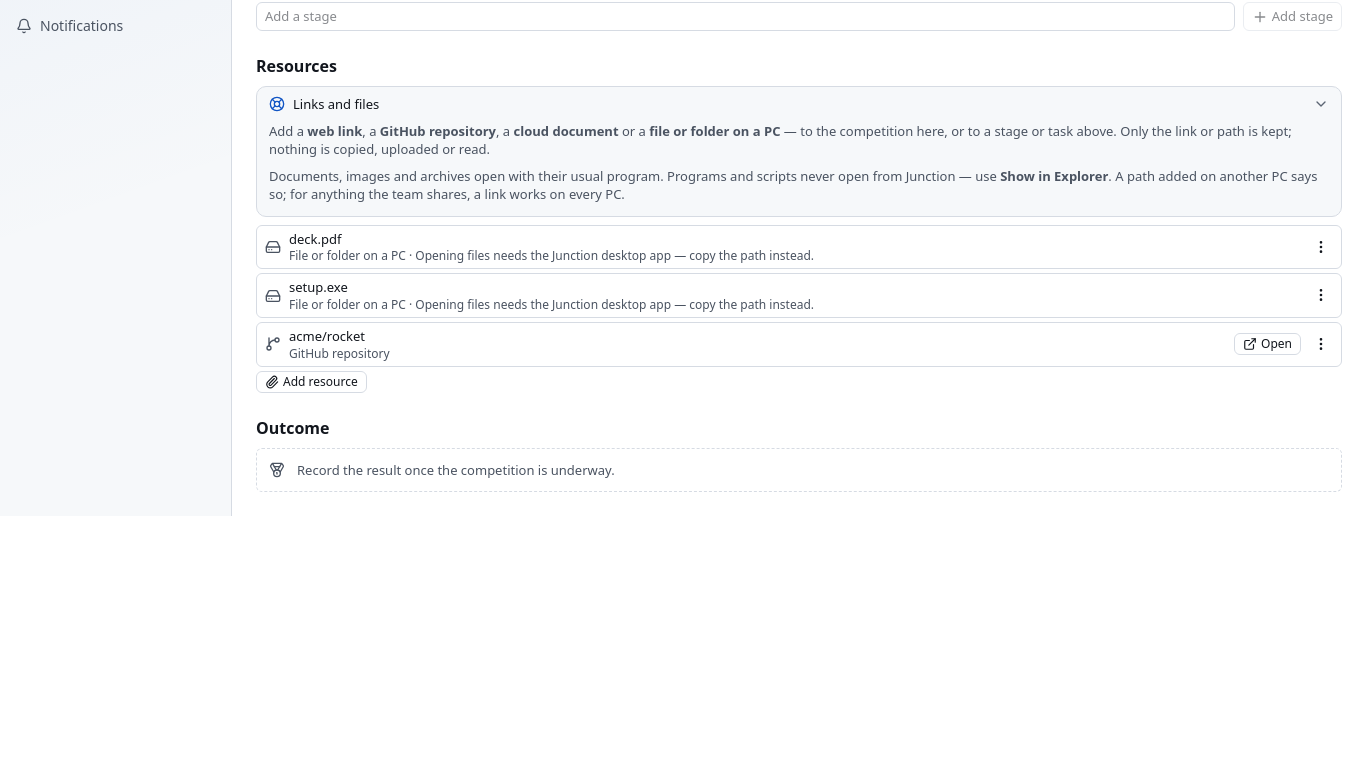
Test case: adding and removing › adds a link at once with Undo; a refused one is explained in the dialog
(page scrolled)
Check: the list named "Resources of this competition" is shown, box [256,225,1342,366]
Click the button with aria-label "Add a resource to this competition" at {"x": 311, "y": 382}, box [256,370,367,392]
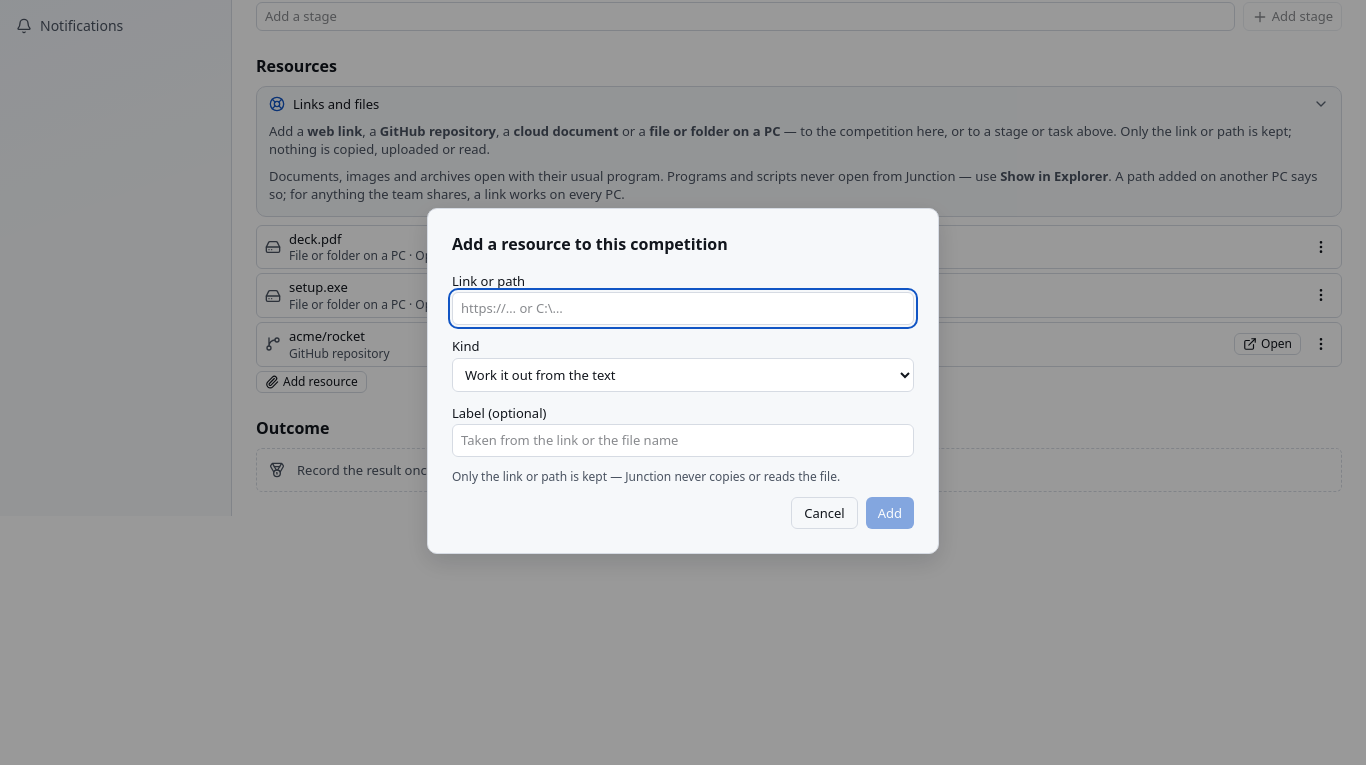
Type "javascript:alert(1)" into the field labelled "Link or path" at {"x": 683, "y": 309}, box [452,292,914,325]
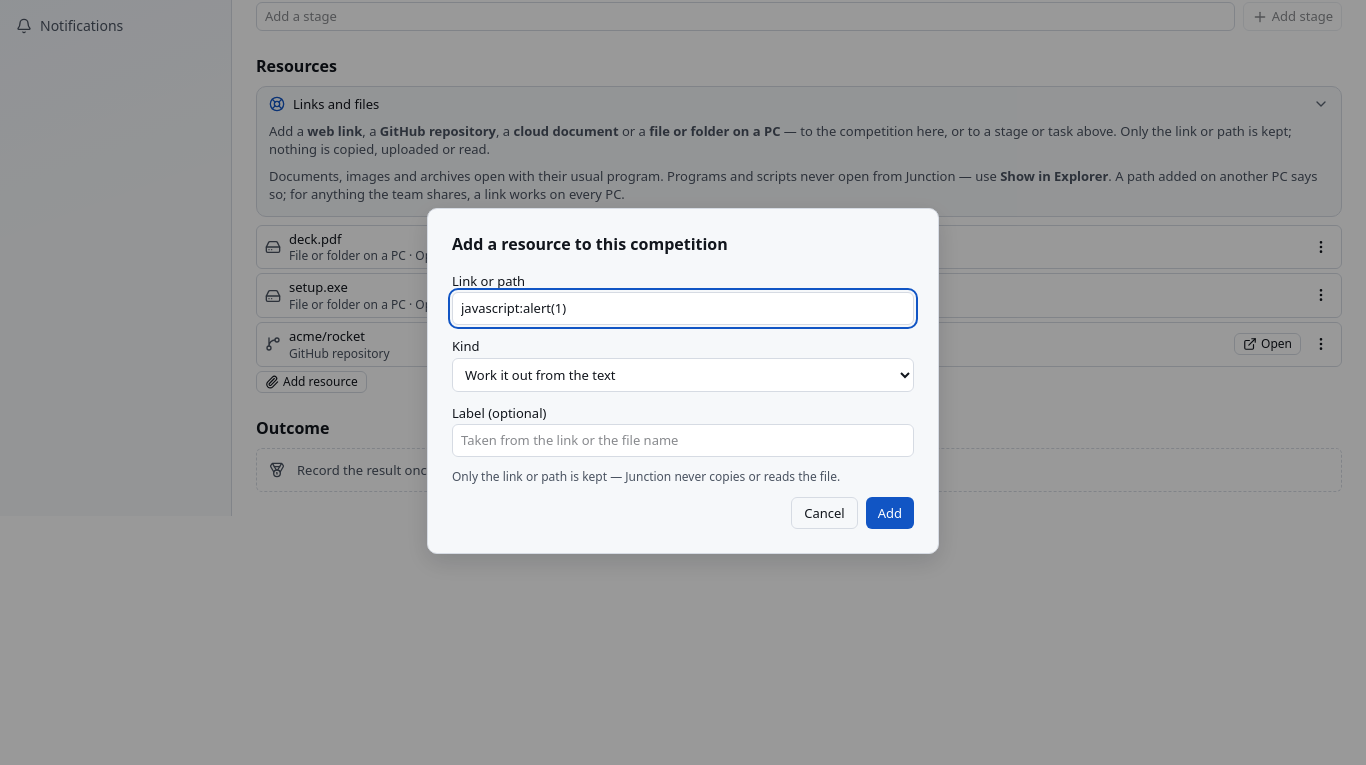
Click the button "Add" at {"x": 890, "y": 513}, box [866,497,914,529]
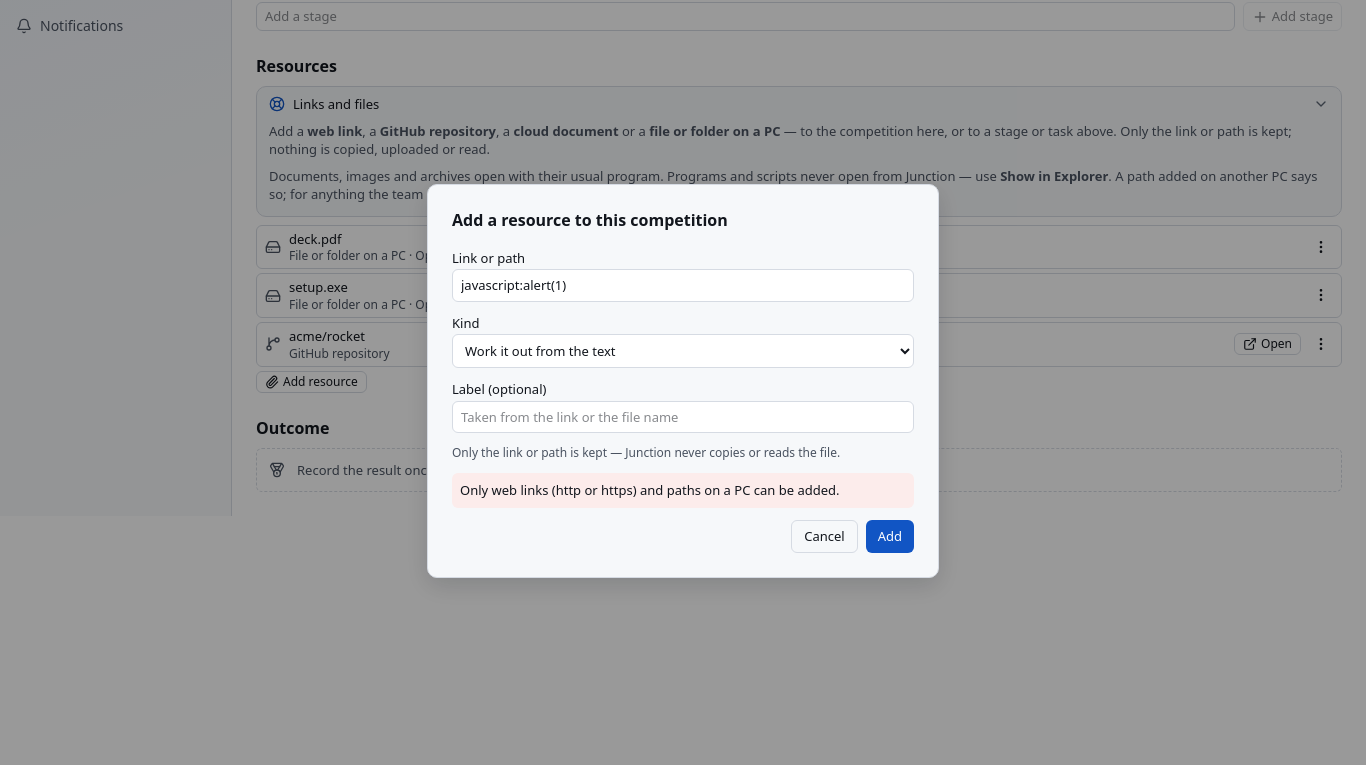
Check: the text "Only web links (http or https) and paths on a PC can be added." is shown, box [452,473,914,508]
Replace the text in the field labelled "Link or path" with "https://devfolio.co/alpha" at {"x": 683, "y": 286}, box [452,269,914,302]
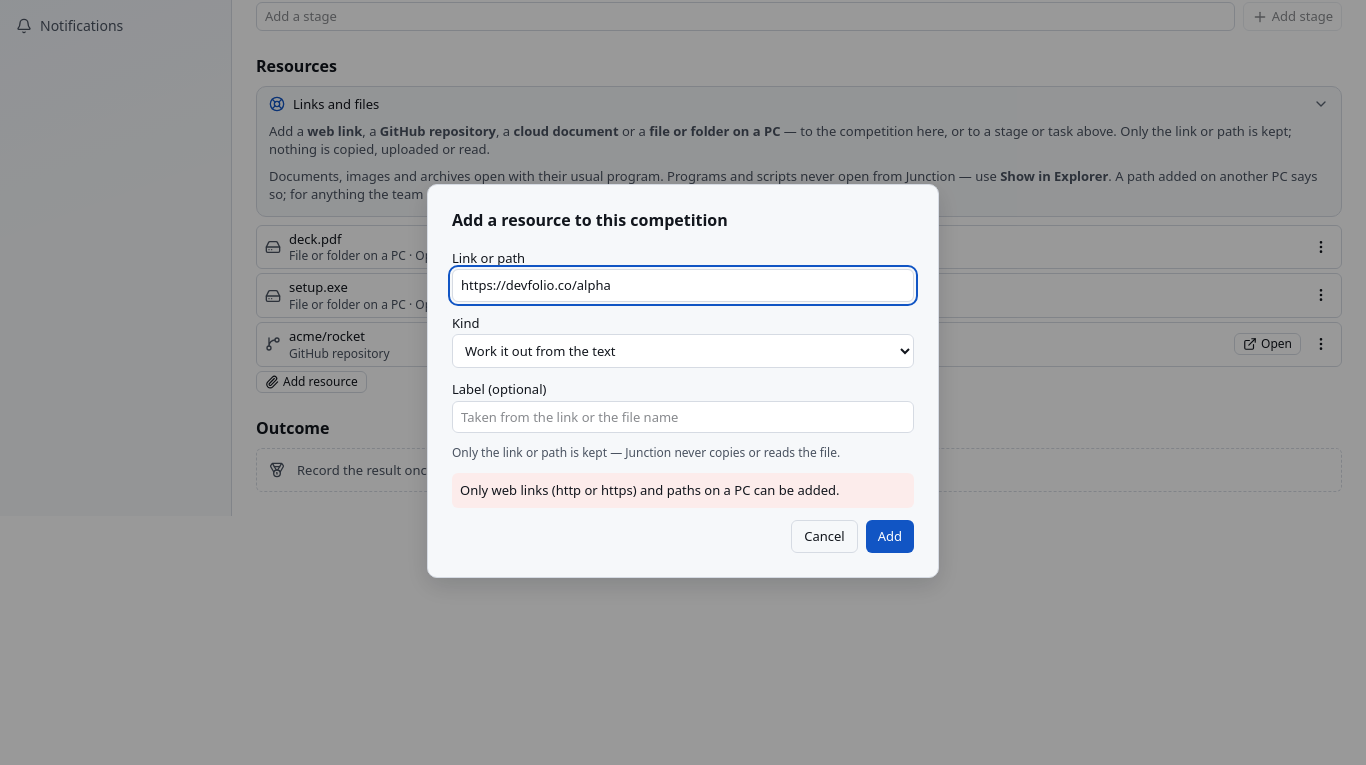
Click the button "Add" at {"x": 890, "y": 536}, box [866,520,914,553]
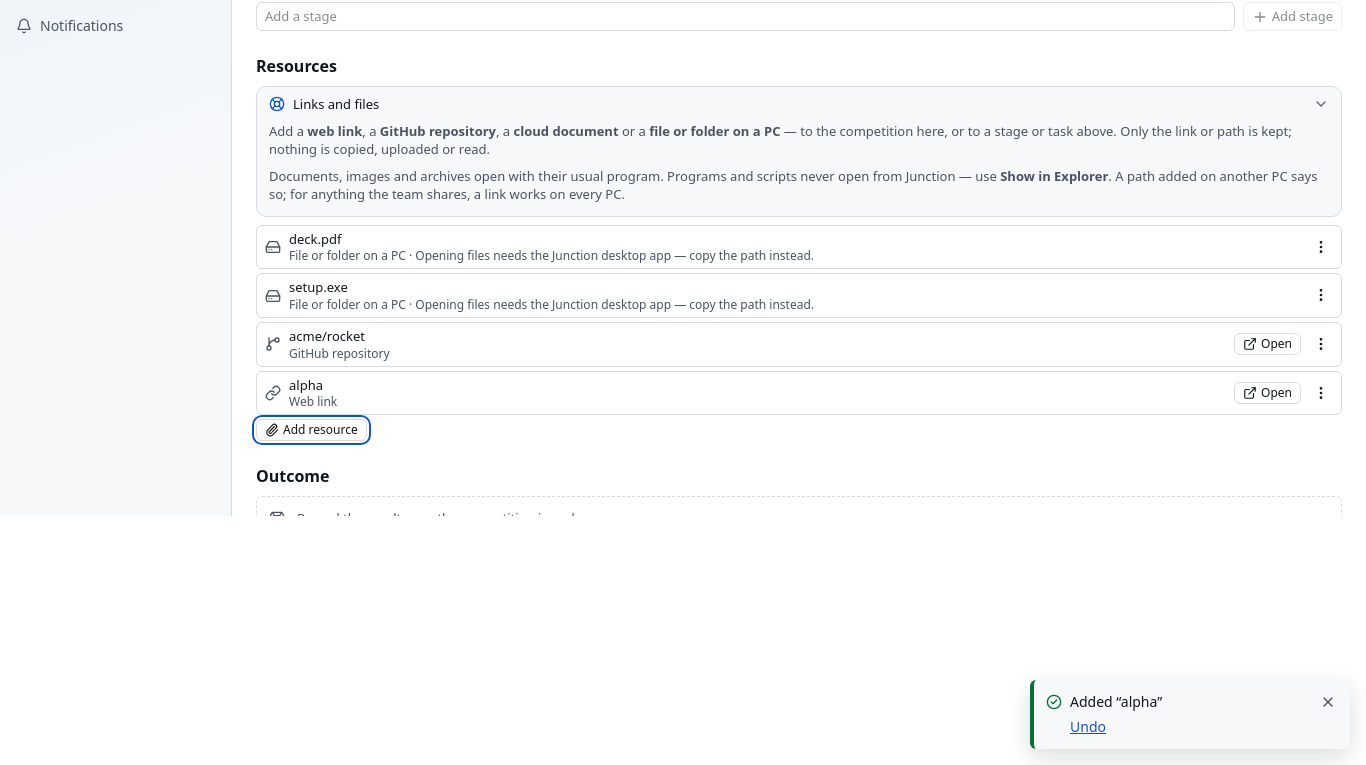
Check: the dialog is gone
Check: the text "alpha" is shown, box [289,376,323,394]
Click the button "Undo" at {"x": 1088, "y": 727}, box [1070,717,1106,737]
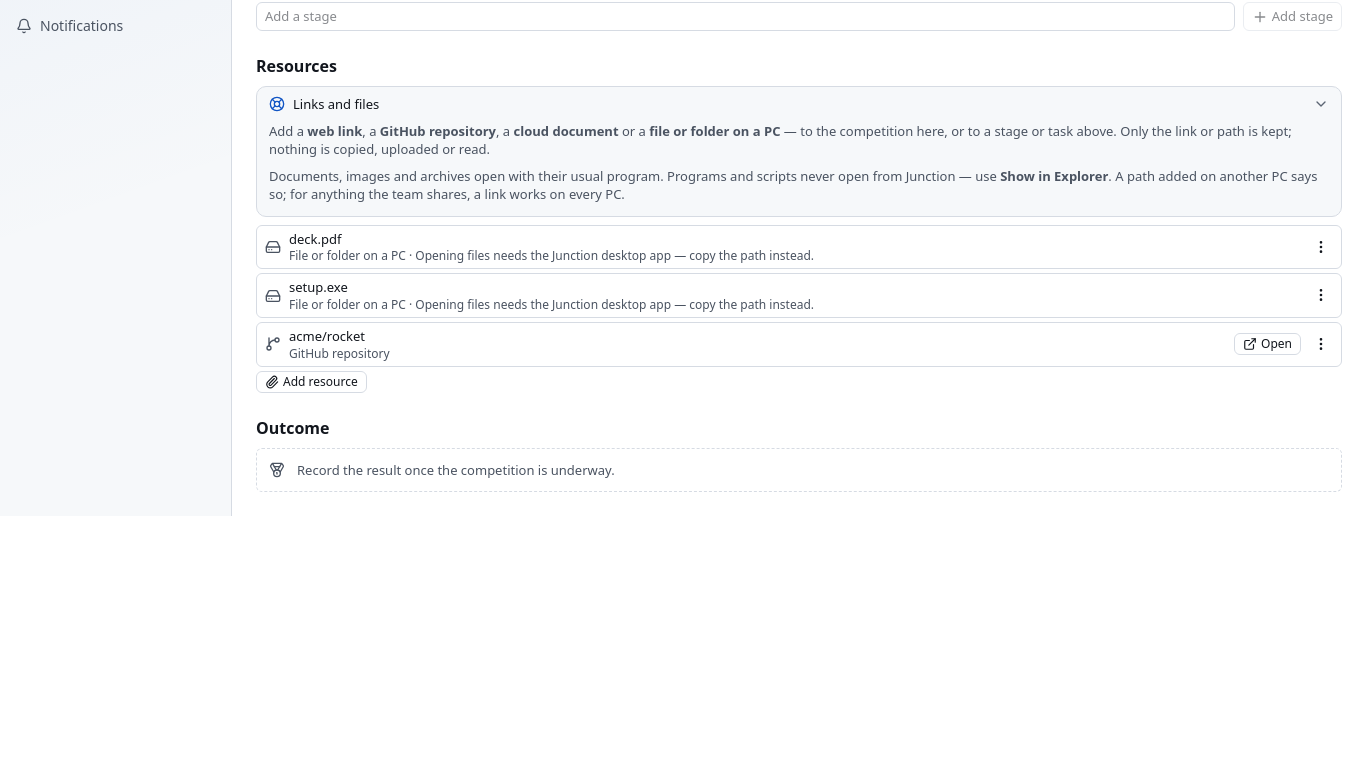
Check: the text "alpha" is gone
